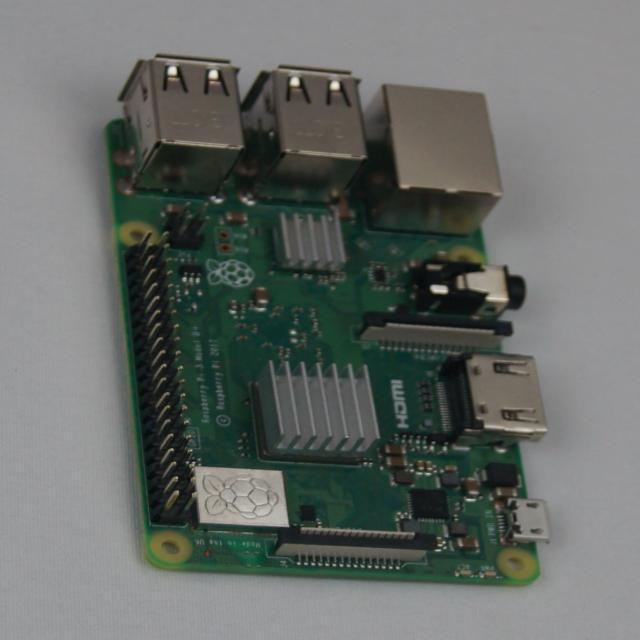Raspberry Pi 3 B-: (106, 56, 549, 585)
